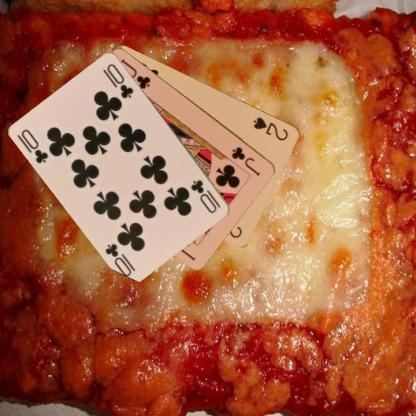10c: (188, 177, 223, 215), (18, 126, 50, 165)
2s: (251, 114, 290, 142)
Jc: (229, 144, 262, 177)
